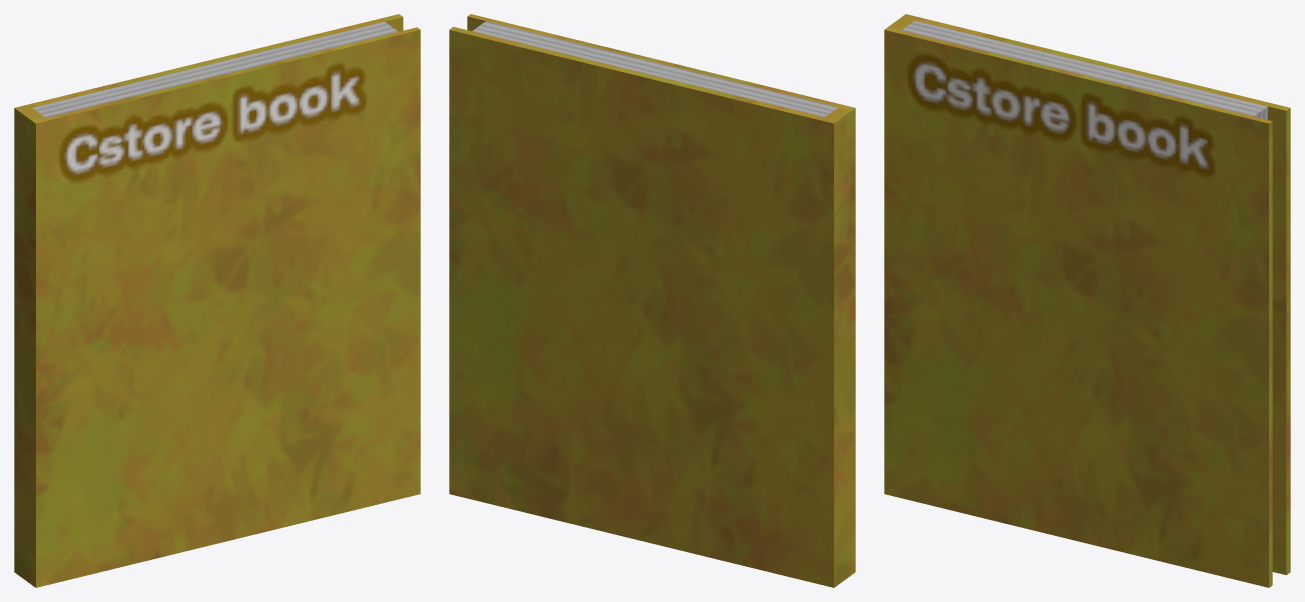
The model's file is book4.FBX.
3 views of the same model, side by side, from view 1: azimuth 30°, elevation 25°; view 2: azimuth 150°, elevation 25°; view 3: azimuth 330°, elevation 25° (orthographic).
Parts seen in each view (by area): view 1: book1; view 2: book1; view 3: book1.
Part boxes in pixels (left/top/right/bottom): book1: left=14, top=14, right=420, bottom=587; book1: left=449, top=14, right=855, bottom=587; book1: left=884, top=14, right=1290, bottom=587.
Bounding box in the file's own units: 57.56 × 66.36 × 5.6.
